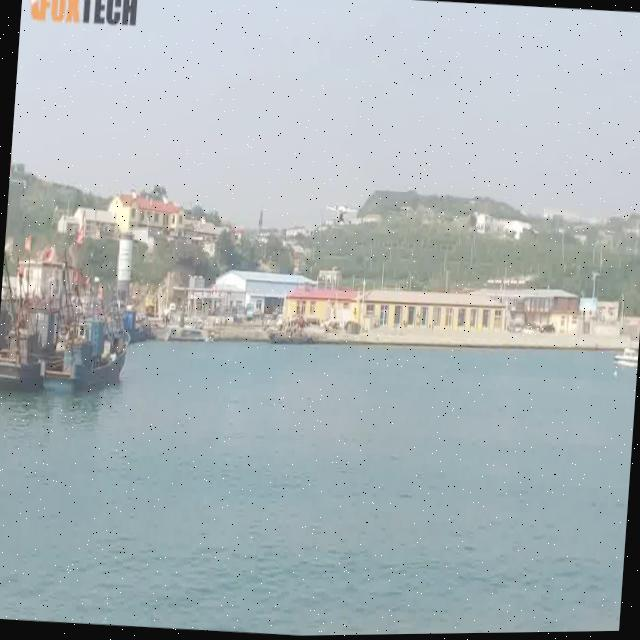drone: (323, 196, 361, 228)
